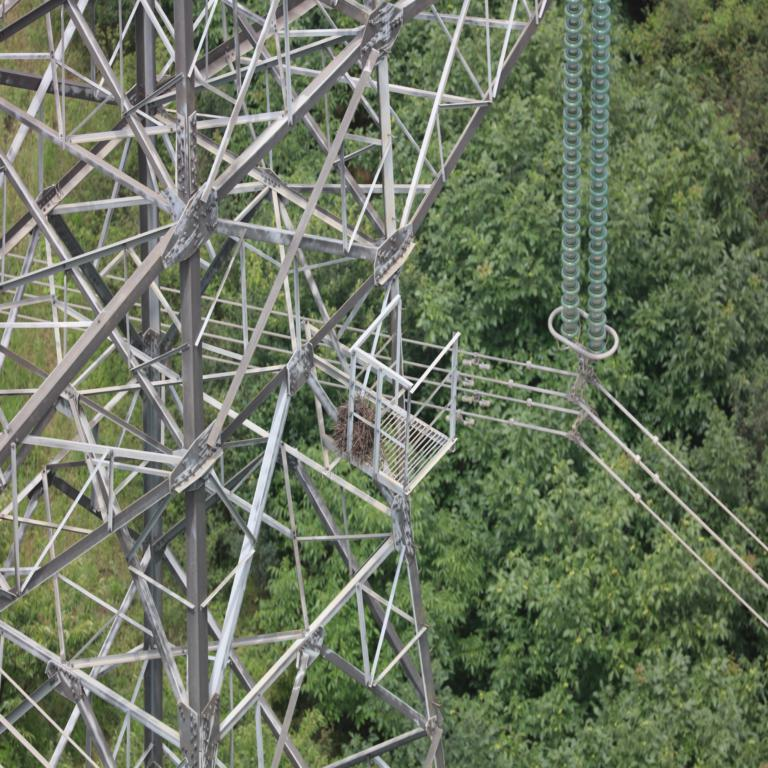nest: (333, 399, 378, 456)
